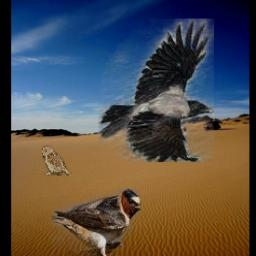Crow: (99, 20, 214, 163)
Sparrow: (42, 147, 72, 177)
Swallow: (51, 190, 141, 256)
